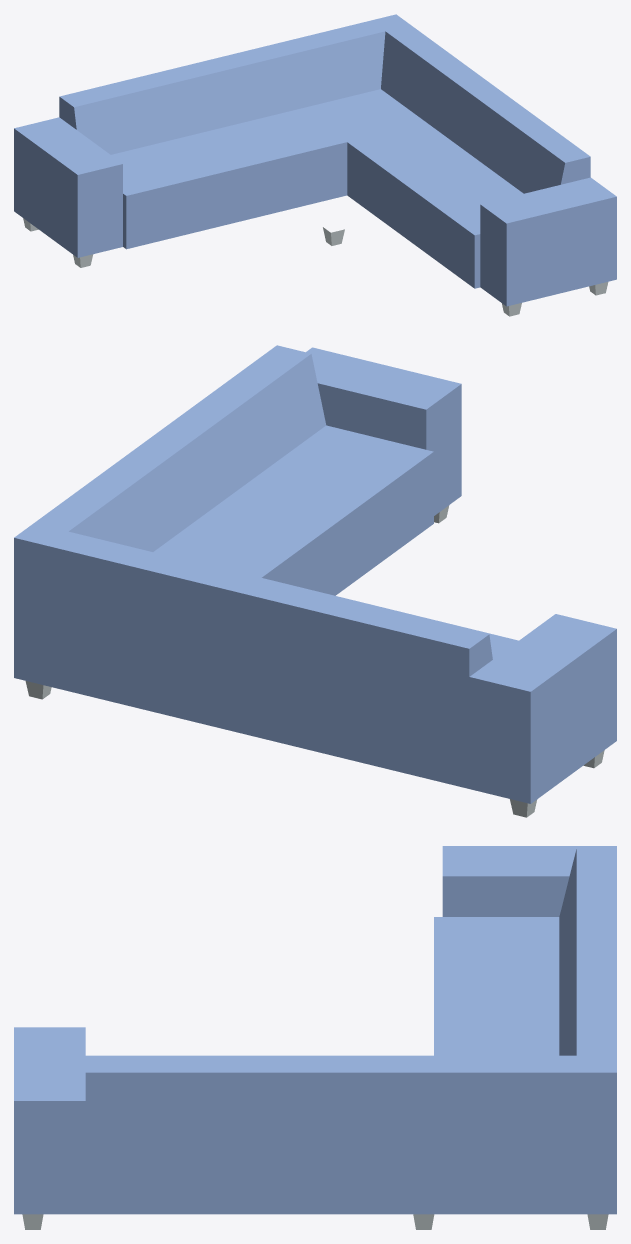
Rendered from loungeDesignSofaCorner.glb.
3 renders of one model, top to bottom at view 1: azimuth 30°, elevation 25°; view 2: azimuth 150°, elevation 25°; view 3: azimuth 270°, elevation 25°, orthographic. The views are drawn at different scales.
Visible parts, largest first — view 1: loungeDesignSofaCorner; view 2: loungeDesignSofaCorner; view 3: loungeDesignSofaCorner.
Boxes of the visible parts, x1,y1,x2,y2 form: loungeDesignSofaCorner: [14, 14, 616, 316]; loungeDesignSofaCorner: [14, 345, 616, 817]; loungeDesignSofaCorner: [14, 846, 616, 1229].
Bounding box in the file's own units: 3.91 × 1.16 × 3.91.
